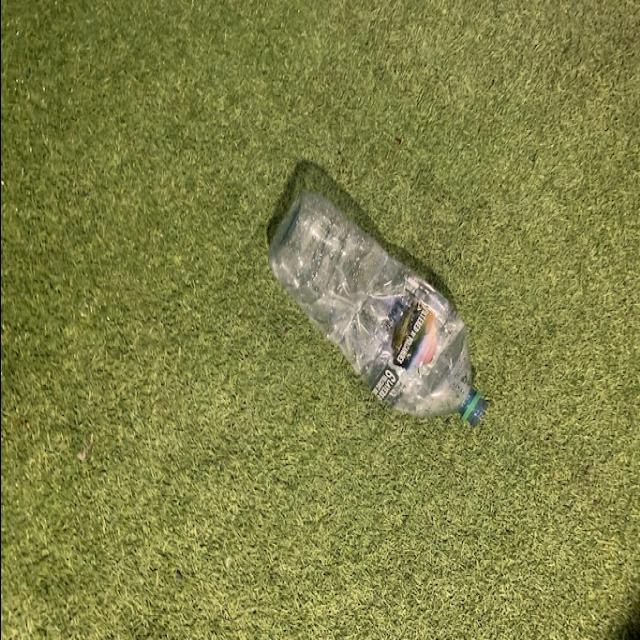PET: (268, 178, 488, 426)
